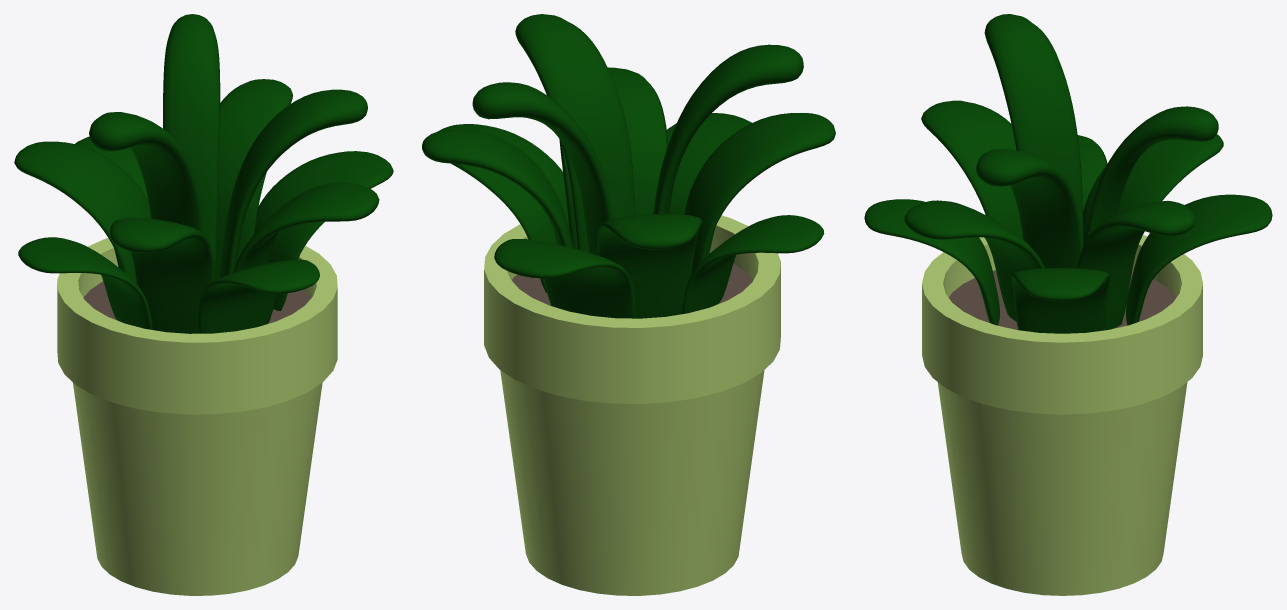
File: Plante2_5.fbx
3 renders of one model, left to right at view 1: azimuth 30°, elevation 25°; view 2: azimuth 150°, elevation 25°; view 3: azimuth 270°, elevation 25°, orthographic. The views are drawn at different scales.
Visible parts, largest first — view 1: pCylinder730, pCube1938, pCube1935, pCube1929, pCube1937, pCube1939, pCube1931, pCube1934, pCube1933, pCube1930, pCube1936, pCylinder731 (+1 smaller); view 2: pCylinder730, pCube1937, pCube1935, pCube1929, pCube1932, pCube1939, pCube1938, pCube1930, pCube1931, pCube1936, pCube1933, pCube1934 (+1 smaller); view 3: pCylinder730, pCube1939, pCube1937, pCube1933, pCube1935, pCube1932, pCube1931, pCube1930, pCube1938, pCube1929, pCube1934, pCylinder731 (+1 smaller).
Boxes of the visible parts, <box> form: pCylinder730: <box>57,238,337,595</box>; pCube1938: <box>163,14,220,278</box>; pCube1935: <box>110,218,214,333</box>; pCube1929: <box>14,141,151,282</box>; pCube1937: <box>219,89,367,277</box>; pCube1939: <box>89,112,203,233</box>; pCube1931: <box>215,79,292,280</box>; pCube1934: <box>198,259,319,333</box>; pCube1933: <box>254,151,393,310</box>; pCube1930: <box>233,182,379,272</box>; pCube1936: <box>18,237,152,329</box>; pCylinder731: <box>83,281,311,323</box>; pCylinder730: <box>484,215,780,595</box>; pCube1937: <box>515,14,635,252</box>; pCube1935: <box>684,113,835,274</box>; pCube1929: <box>597,214,702,318</box>; pCube1932: <box>494,239,635,318</box>; pCube1939: <box>653,44,803,214</box>; pCube1938: <box>472,82,613,254</box>; pCube1930: <box>559,67,668,249</box>; pCube1931: <box>422,129,573,247</box>; pCube1936: <box>681,215,824,314</box>; pCube1933: <box>438,124,569,293</box>; pCube1934: <box>666,113,751,256</box>; pCylinder730: <box>922,235,1202,595</box>; pCube1939: <box>984,14,1083,246</box>; pCube1937: <box>976,149,1082,268</box>; pCube1933: <box>1011,268,1110,333</box>; pCube1935: <box>921,100,1022,238</box>; pCube1932: <box>1126,194,1272,325</box>; pCube1931: <box>1077,200,1195,330</box>; pCube1930: <box>904,200,1044,321</box>; pCube1938: <box>1085,106,1218,240</box>; pCube1929: <box>1083,134,1223,244</box>; pCube1934: <box>864,199,999,325</box>; pCylinder731: <box>948,270,1176,329</box>.
Size of the model in its own units: 16.65 by 21.16 by 16.27.
